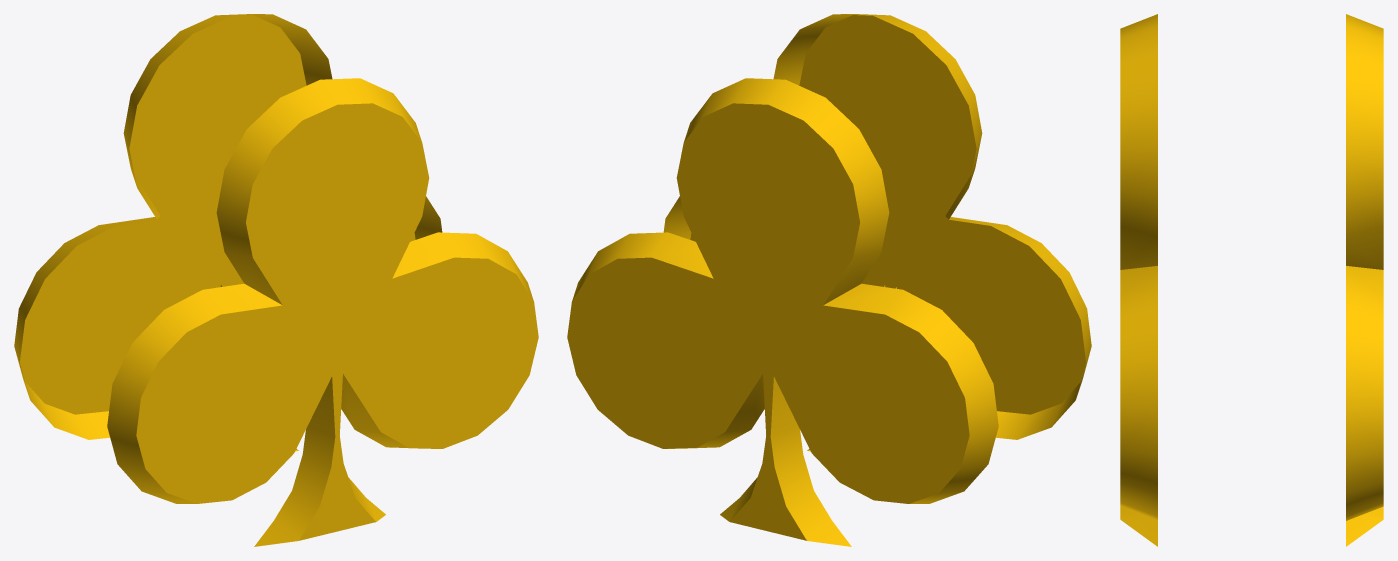
The model's file is Clubs.fbx.
3 renders of one model, left to right at view 1: azimuth 30°, elevation 25°; view 2: azimuth 150°, elevation 25°; view 3: azimuth 270°, elevation 25°, orthographic. The views are drawn at different scales.
Parts seen in each view (by area): view 1: Clubs; view 2: Clubs; view 3: Clubs.
Part boxes in pixels (bbox=[...]): Clubs: bbox=[14, 14, 538, 546]; Clubs: bbox=[567, 14, 1091, 546]; Clubs: bbox=[1120, 14, 1383, 546].
Bounding box in the file's own units: 92.28 × 93.41 × 45.82.
